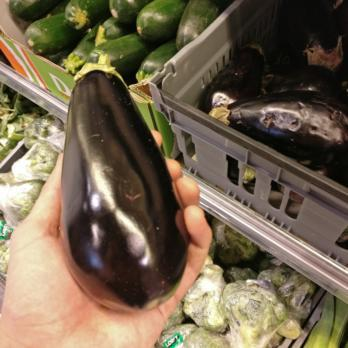Brinjal: (55, 49, 192, 309), (204, 34, 348, 145)
